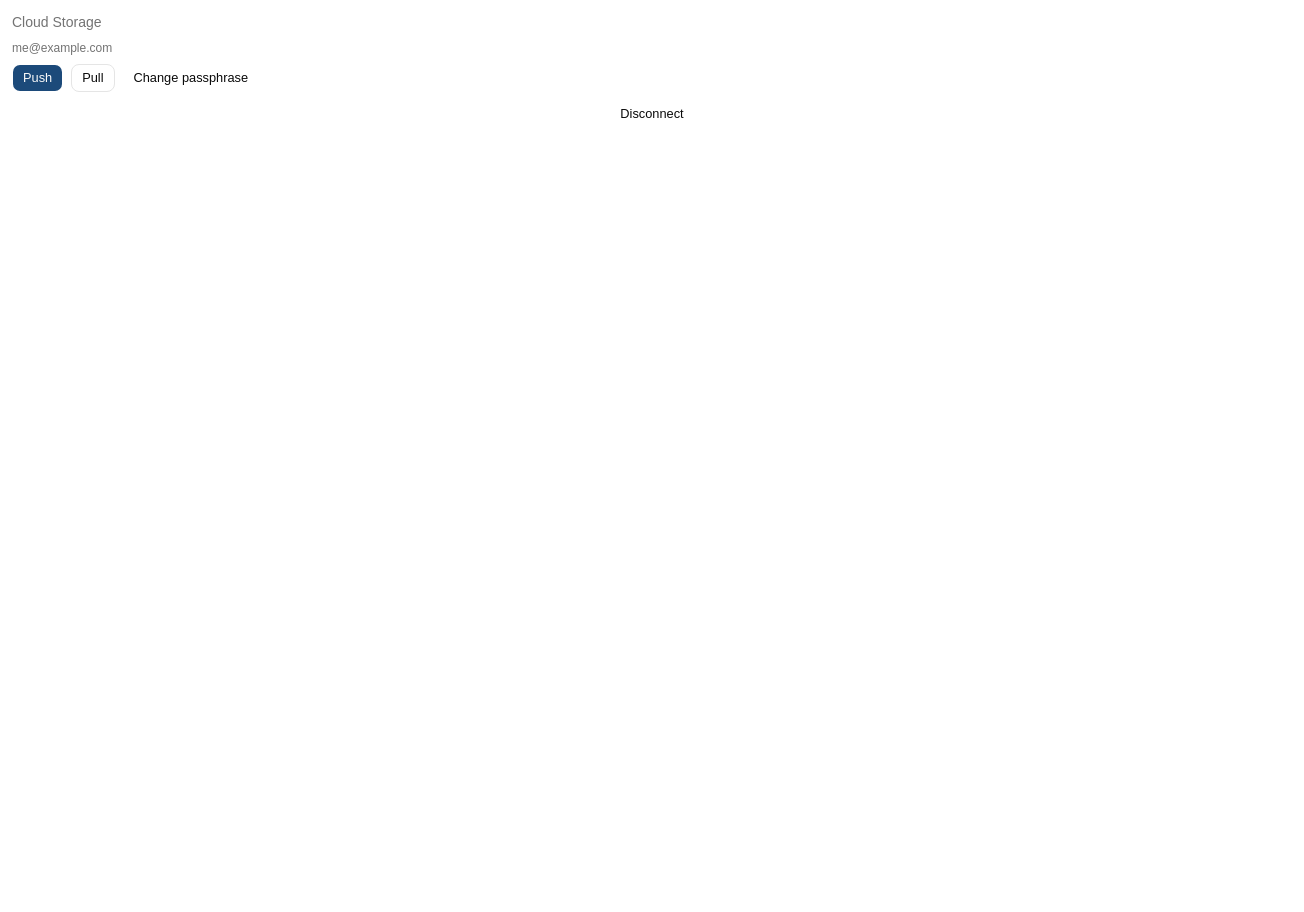
CloudSyncPanel — connected with a passphrase › pushes on click and shows a confirmation message
Click the button "Push" at (38, 78), box top-left (12, 64), bottom-right (63, 92)
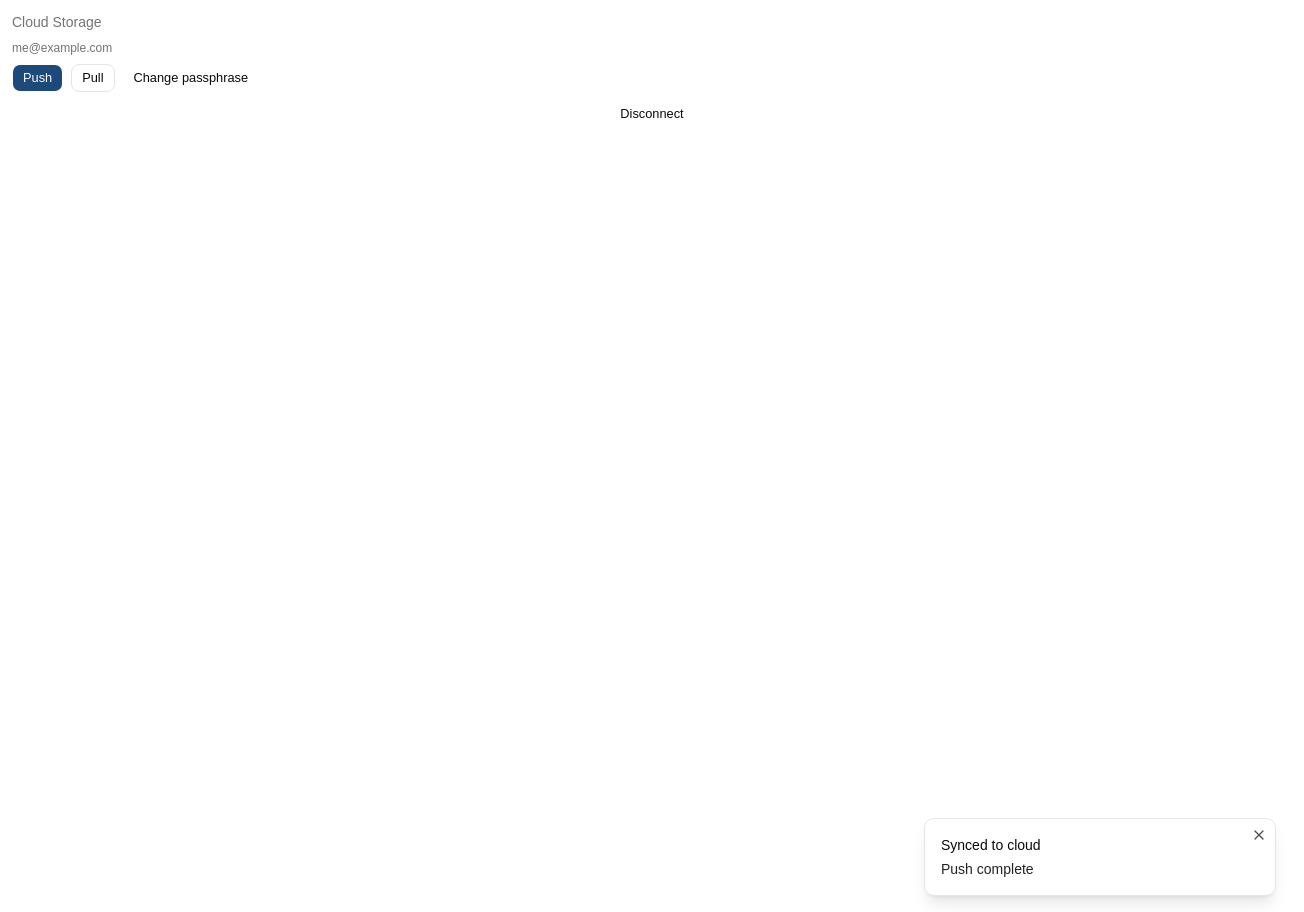
expect the text "Synced to cloud" is shown: met, box top-left (941, 835), bottom-right (1041, 855)
